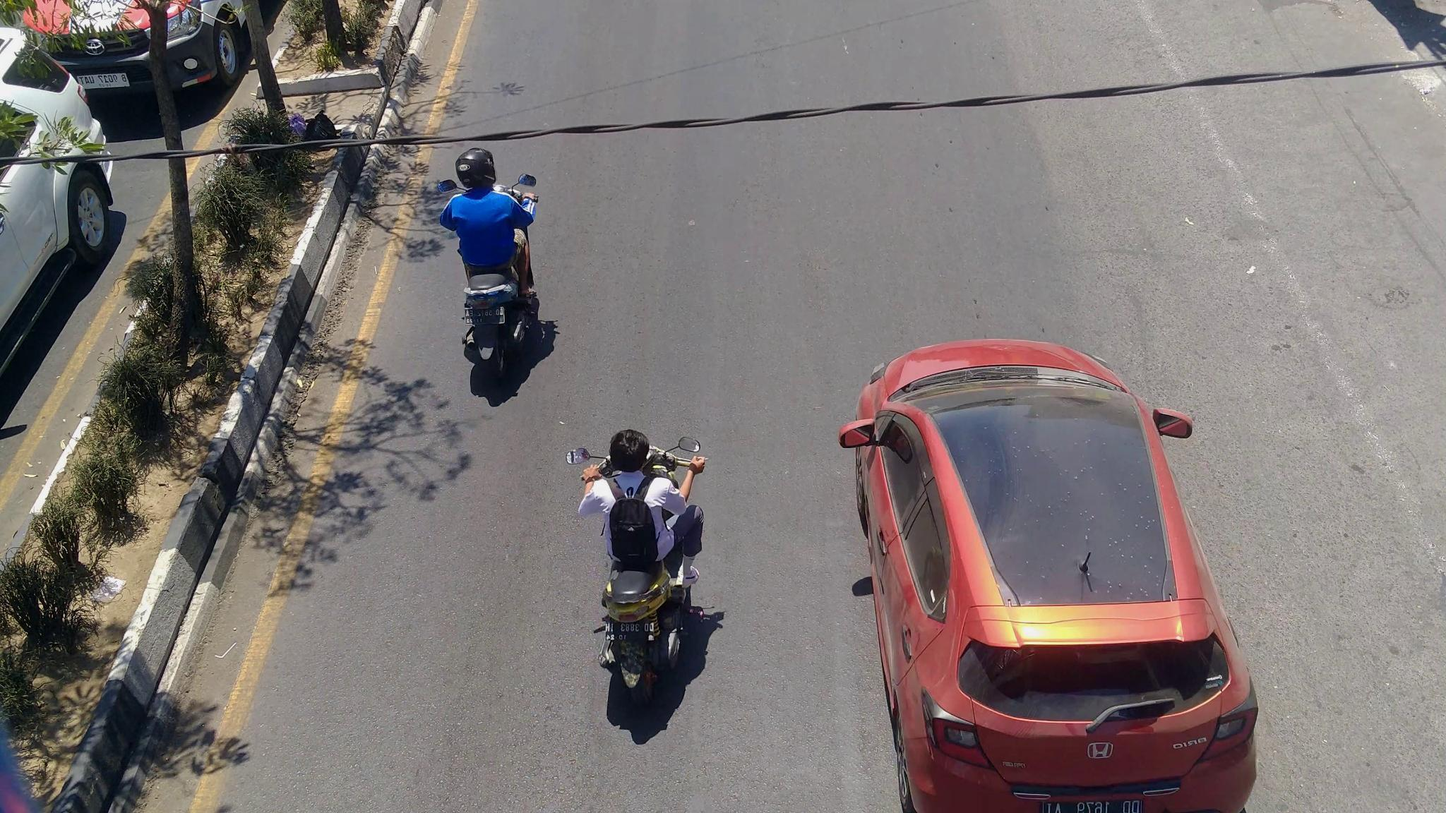Helmet: (449, 143, 509, 196)
bike: (563, 435, 703, 694), (434, 163, 540, 373)
no-helmet: (601, 426, 657, 477)
number-plate: (606, 619, 656, 646), (463, 305, 507, 330)
rider: (575, 428, 705, 590), (441, 145, 543, 299)
